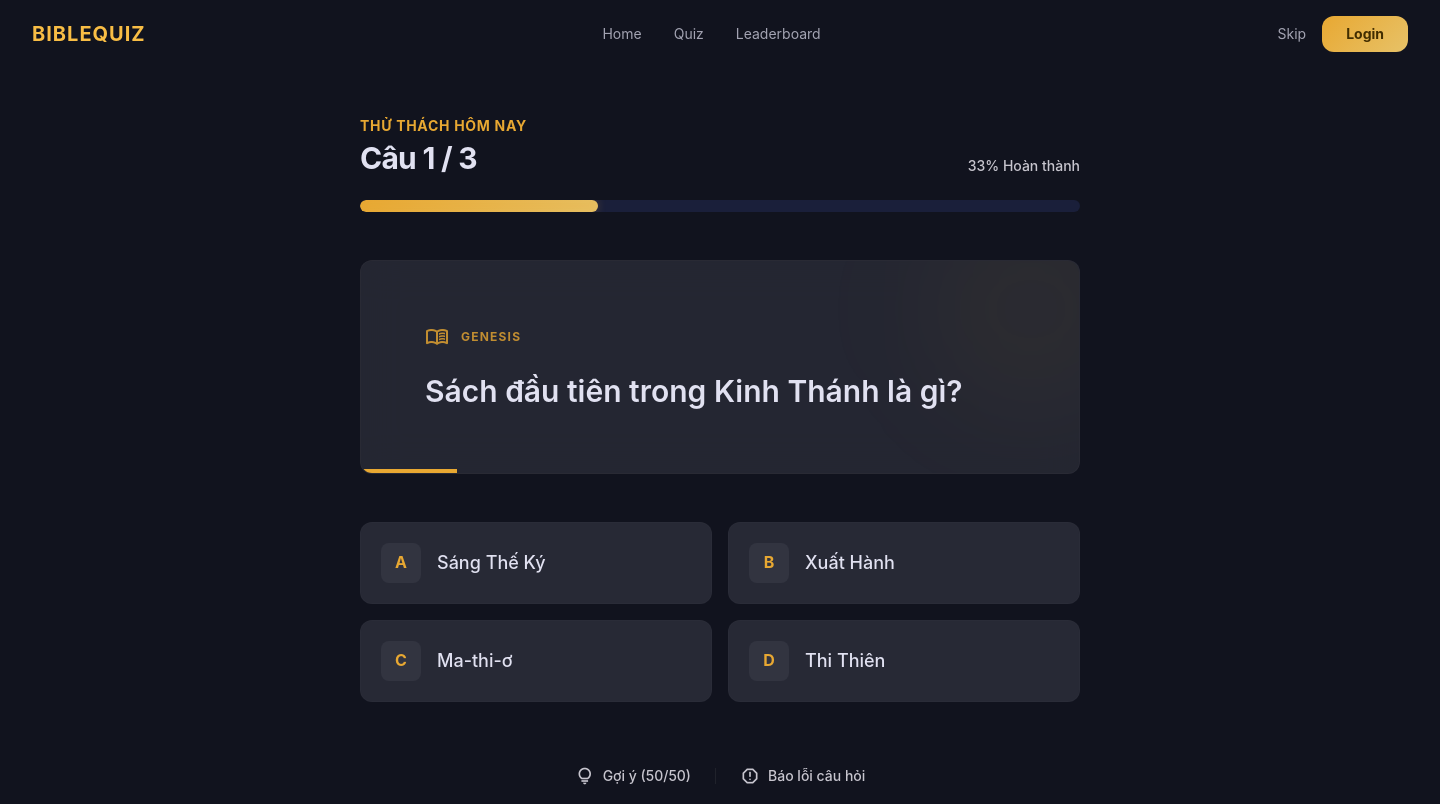
OnboardingTryQuiz › Quiz interaction › advances to next question after selecting answer
Expected: the heading "Câu 1 / 3" is shown, [360,140,477,176]
Click the button "A Sáng Thế Ký" at (536, 563), box [360,522,712,604]
Wait 900 ms
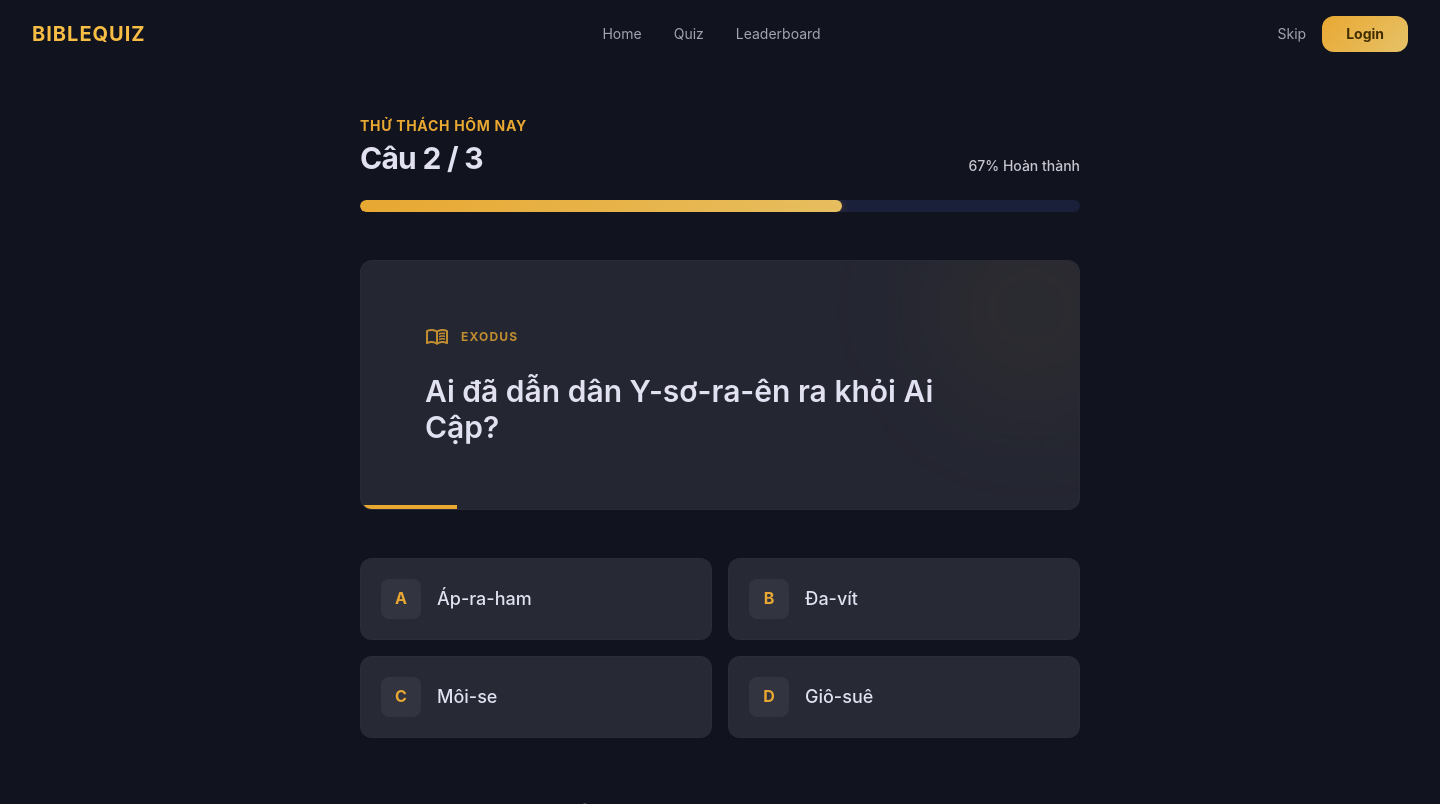
Result: the heading "Câu 2 / 3" is shown at [360,140,483,176]
